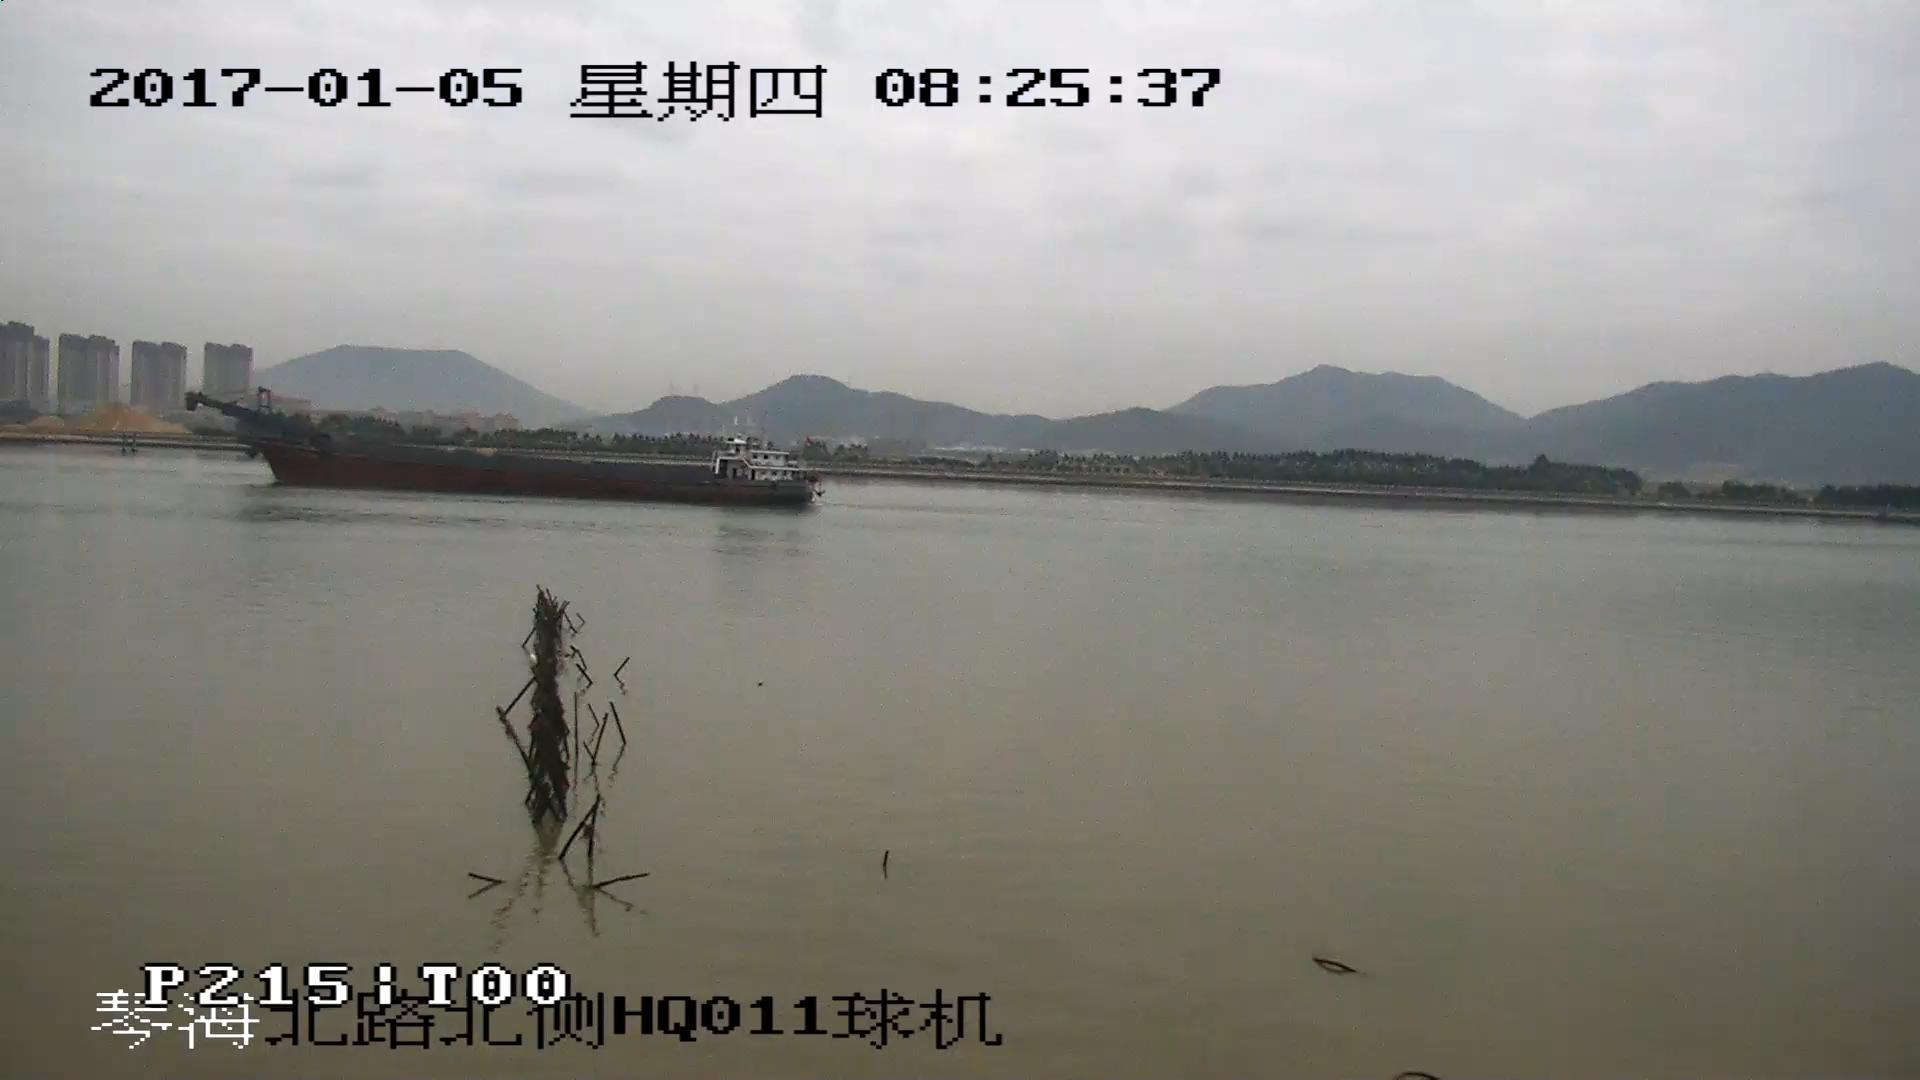Ship: (189, 390, 825, 508)
